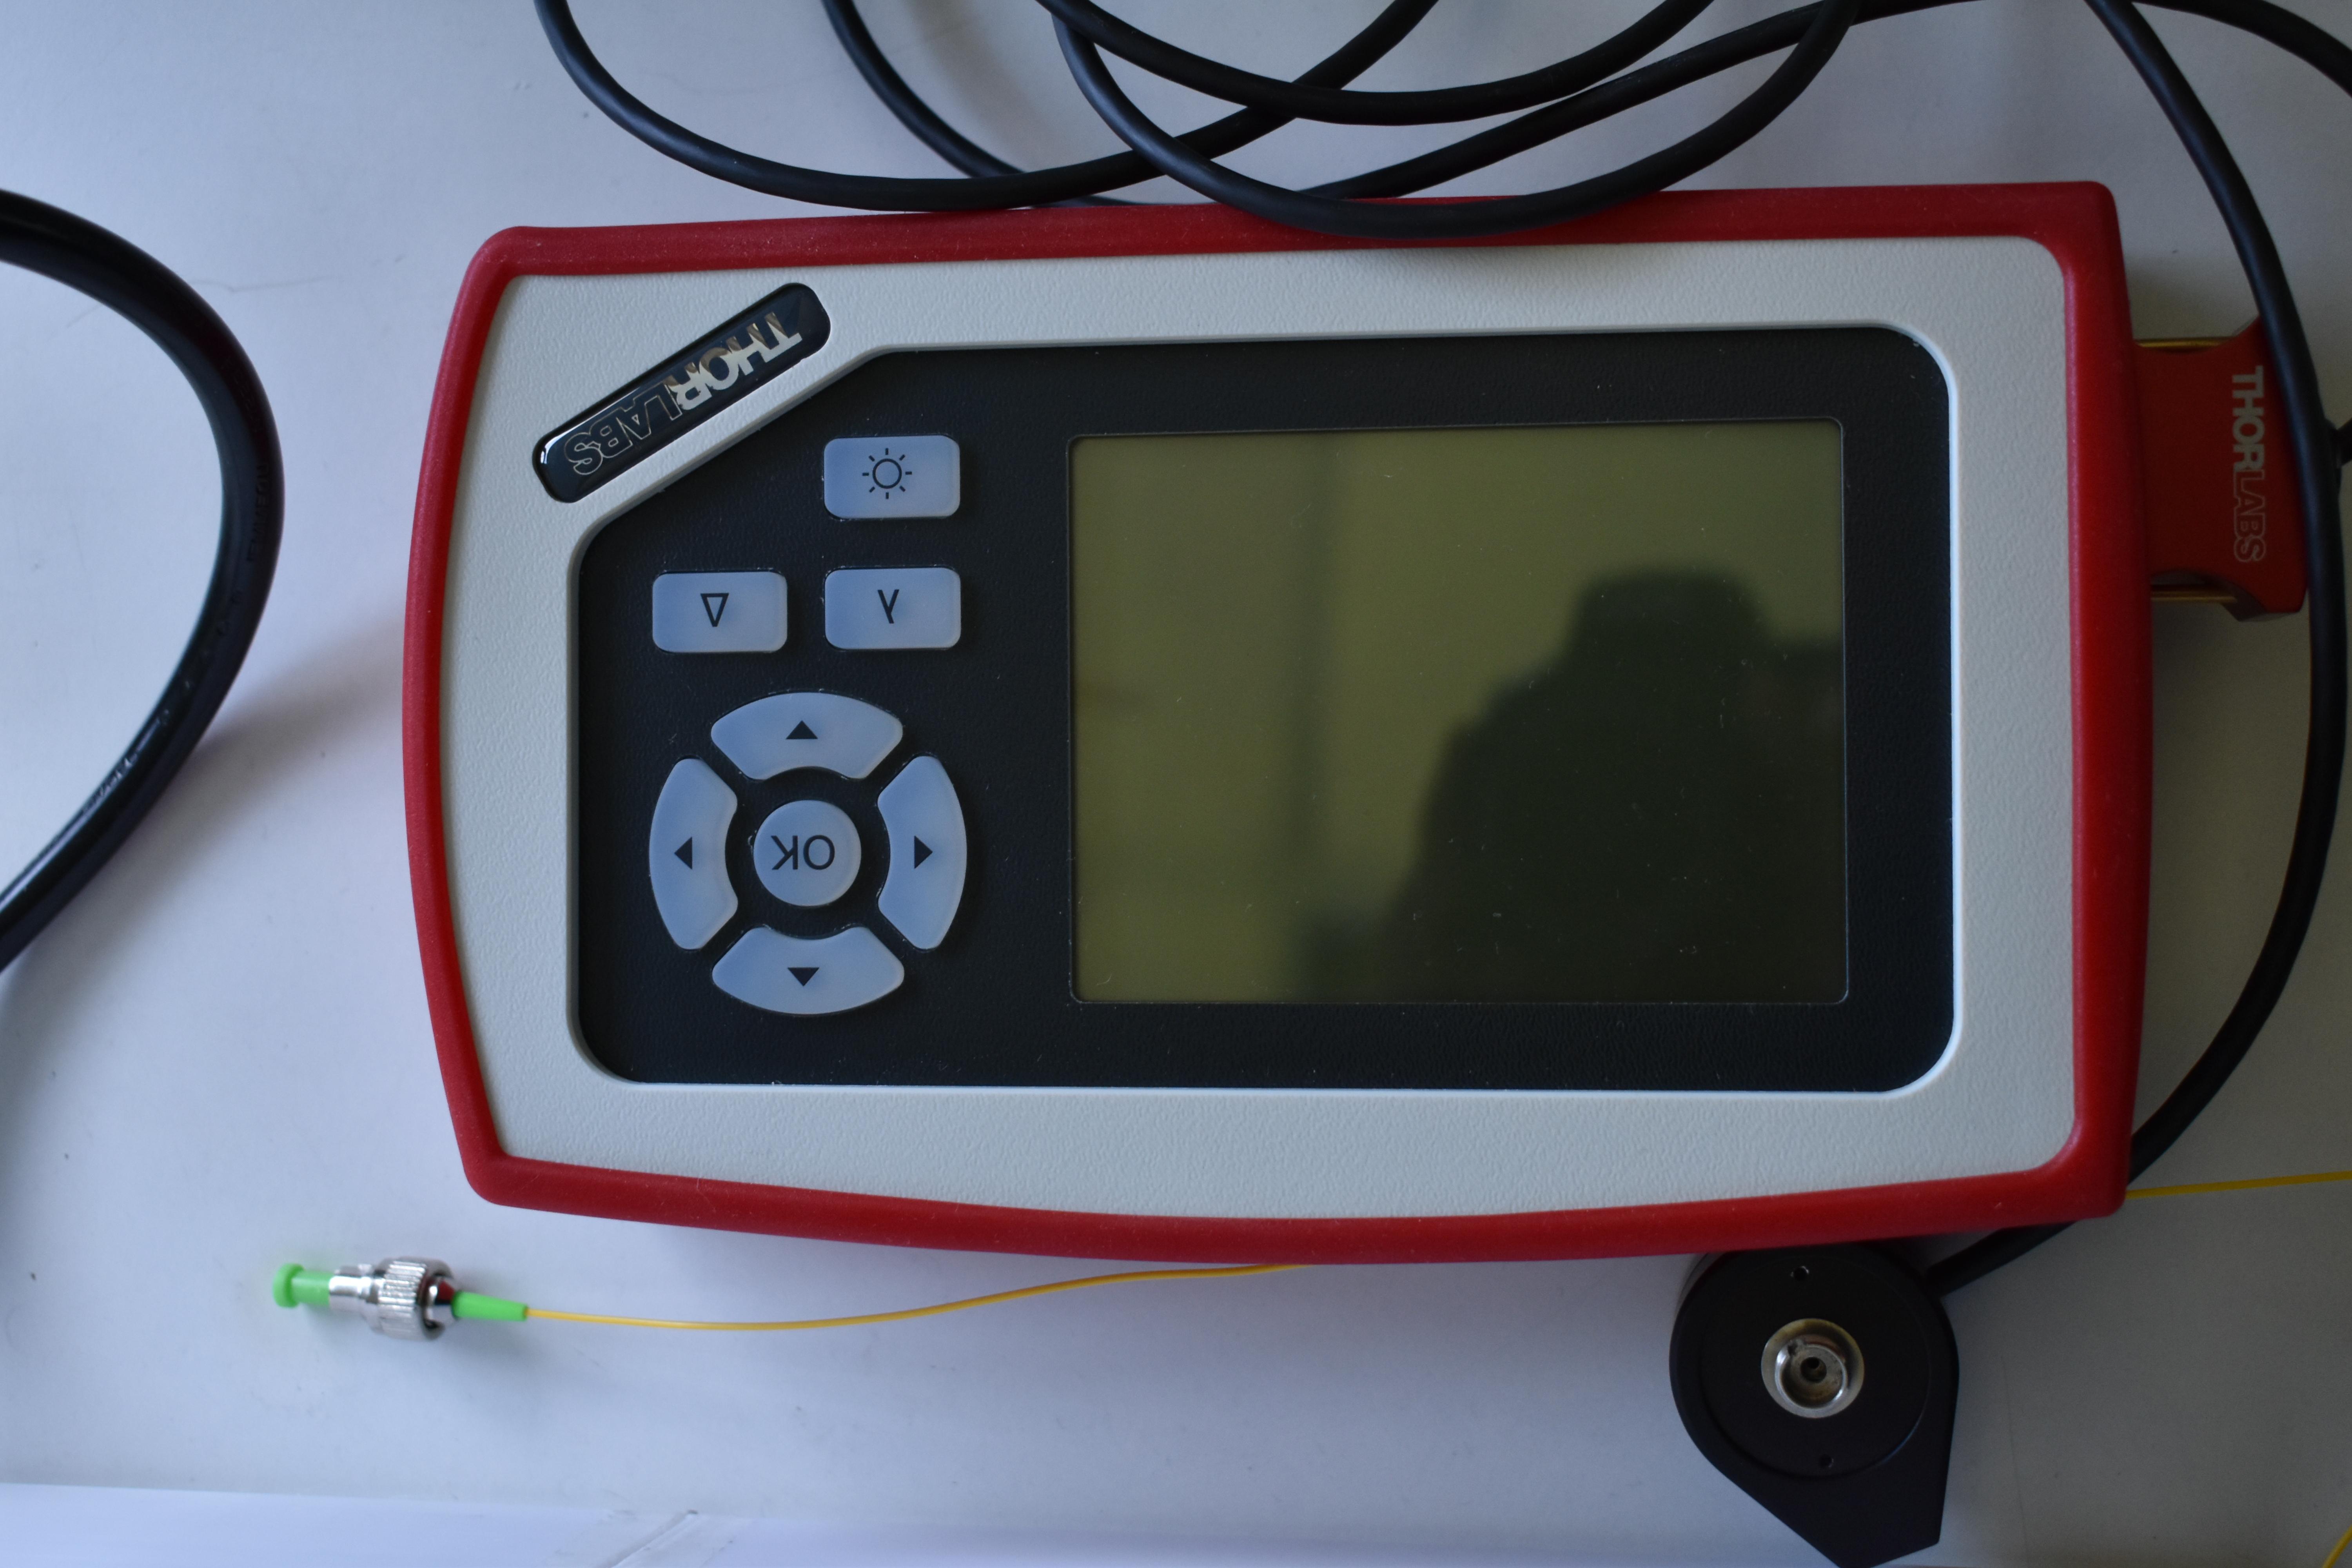powermeter: (362, 161, 2329, 1292)
